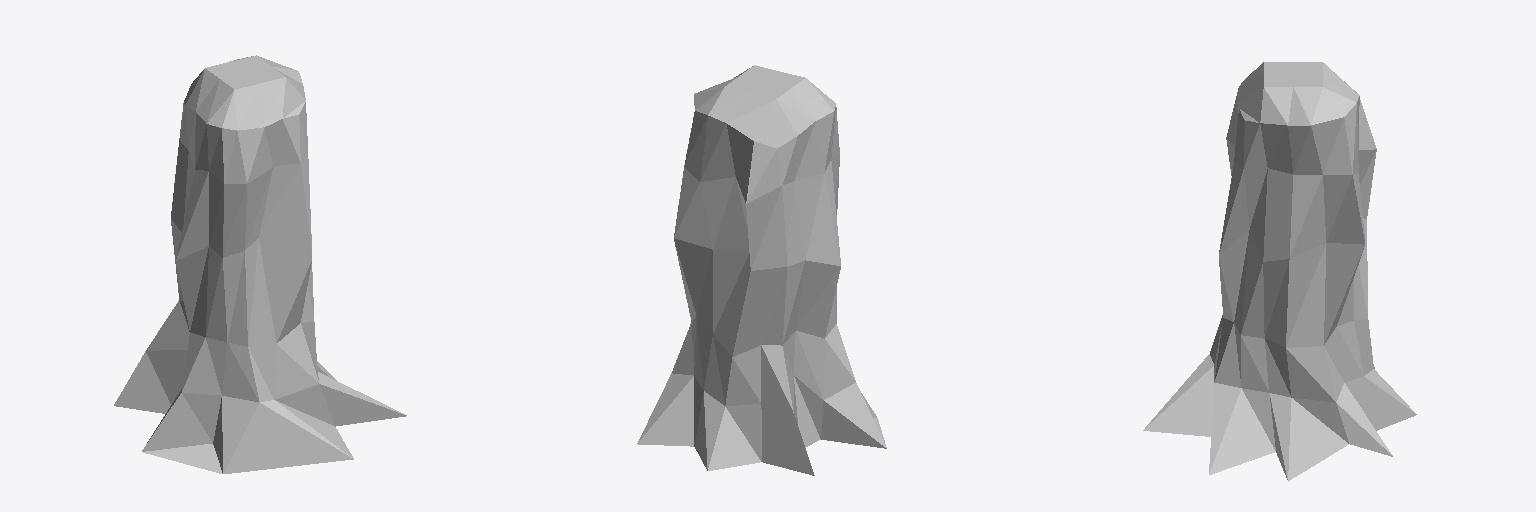
File: tree_trunk.obj
The picture shows the model from 3 angles: view 1: azimuth 30°, elevation 25°; view 2: azimuth 150°, elevation 25°; view 3: azimuth 270°, elevation 25°; orthographic projection.
Parts seen in each view (by area): view 1: Cube_Cube.004; view 2: Cube_Cube.004; view 3: Cube_Cube.004.
Part boxes in pixels (x1,y1,x2,y2): Cube_Cube.004: (114, 55, 406, 473); Cube_Cube.004: (637, 65, 886, 475); Cube_Cube.004: (1143, 62, 1416, 481).
Size of the model in its own units: 4.55 by 6.68 by 4.64.